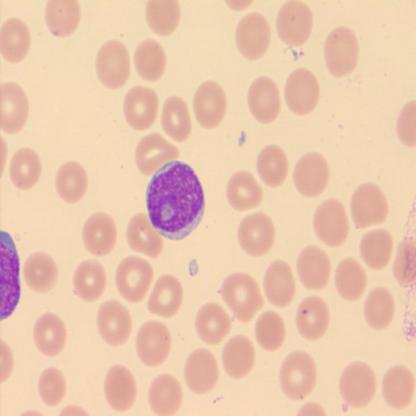Blast: (144, 158, 208, 242)
